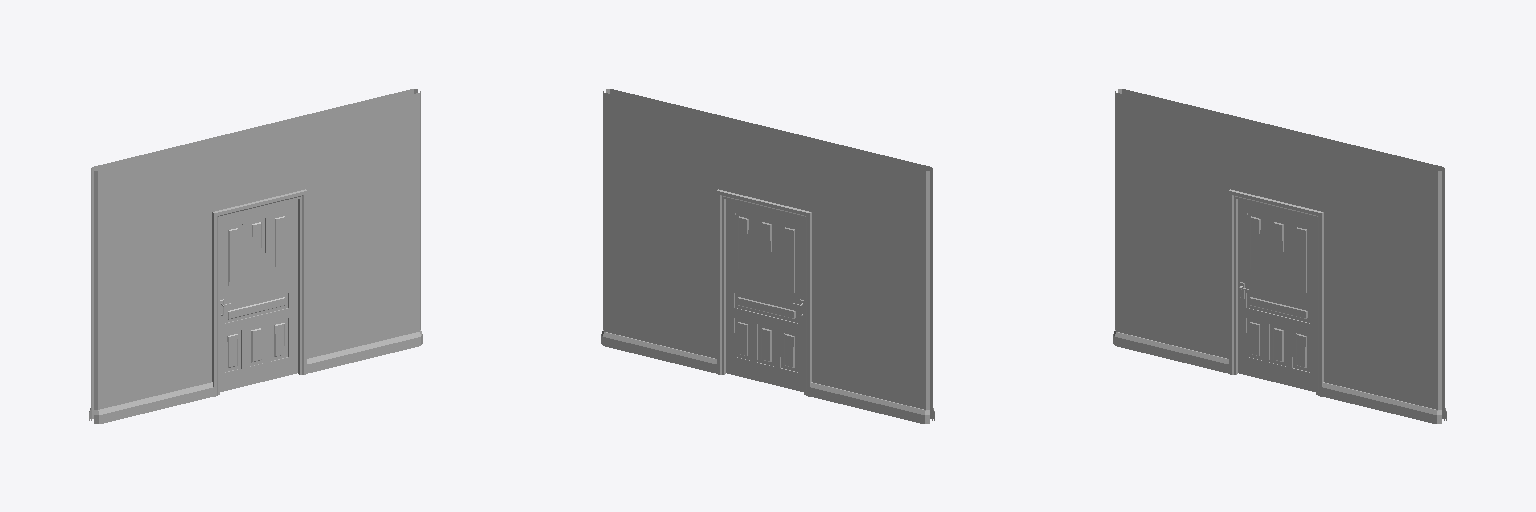
Rendered from doorway_2.obj.
The picture shows the model from 3 angles: view 1: azimuth 30°, elevation 25°; view 2: azimuth 150°, elevation 25°; view 3: azimuth 330°, elevation 25°; orthographic projection.
Parts seen in each view (by area): view 1: doorway_2, door_2; view 2: doorway_2, door_2; view 3: doorway_2, door_2.
Part boxes in pixels (x1,y1,x2,y2): doorway_2: (89,89,422,423); door_2: (220,199,297,391); doorway_2: (601,89,934,423); door_2: (726,199,803,391); doorway_2: (1113,89,1446,423); door_2: (1238,199,1315,391).
Size of the model in its own units: 4.09 by 3 by 0.2.